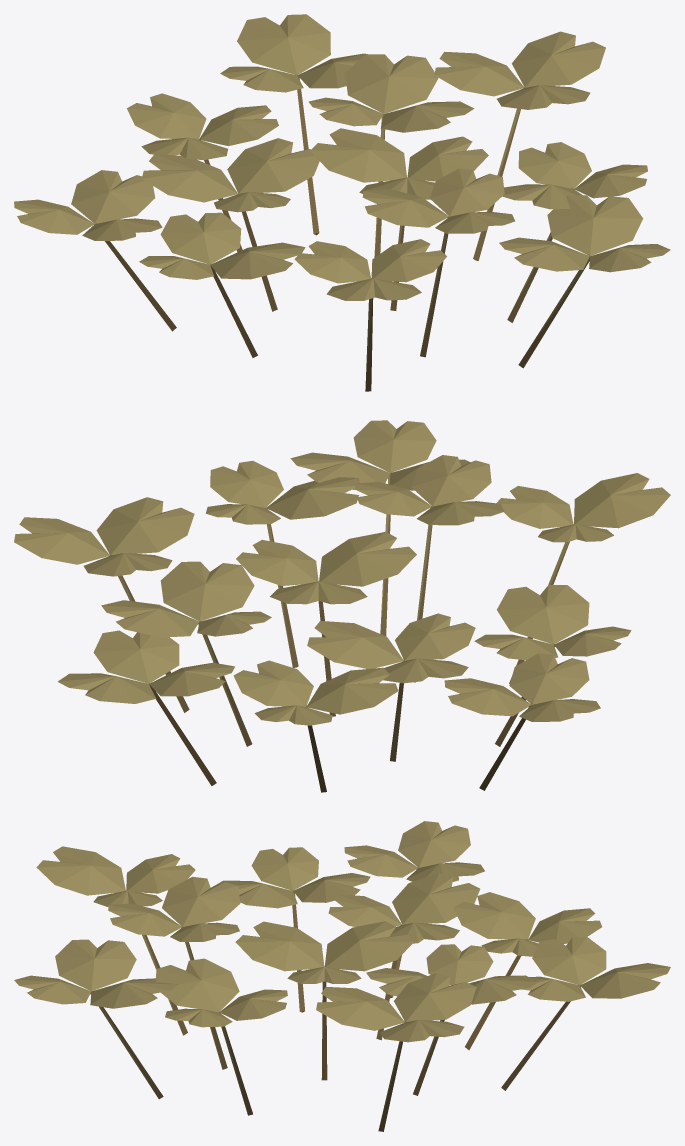
Rendered from clover_patch_autumn.glb.
The picture shows the model from 3 angles, top to bottom: view 1: azimuth 30°, elevation 25°; view 2: azimuth 150°, elevation 25°; view 3: azimuth 270°, elevation 25°; orthographic projection. The views are drawn at different scales.
Visible parts, largest first — view 1: geometry; view 2: geometry; view 3: geometry.
Boxes of the visible parts, box(x1,y1,x2,y2) form: geometry: box(14, 14, 670, 391); geometry: box(14, 420, 670, 792); geometry: box(14, 821, 670, 1131).
Bounding box in the file's own units: 0.3095 × 0.09 × 0.3317.
